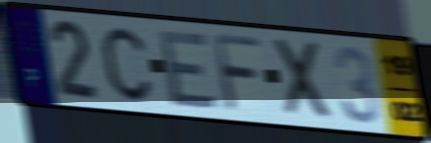2: (48, 17, 102, 103)
3: (333, 44, 380, 125)
C: (99, 24, 154, 104)
E: (158, 28, 222, 111)
F: (210, 30, 263, 115)
X: (271, 35, 336, 123)
